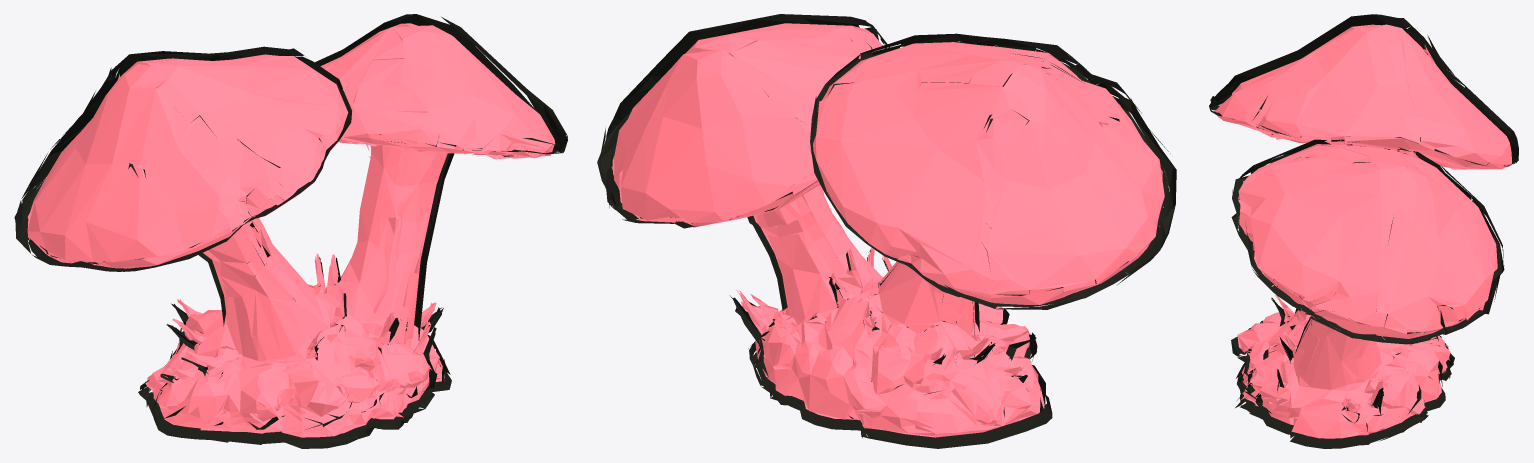
The model's file is df_v2_mushroom_blocker_g_a.glb.
3 views of the same model, side by side, from view 1: azimuth 30°, elevation 25°; view 2: azimuth 150°, elevation 25°; view 3: azimuth 270°, elevation 25° (orthographic). The views are drawn at different scales.
Visible parts, largest first — view 1: mushroom_blocker_g_mesh_01, mushroom_blocker_g_mesh_01_ink_outline; view 2: mushroom_blocker_g_mesh_01, mushroom_blocker_g_mesh_01_ink_outline; view 3: mushroom_blocker_g_mesh_01, mushroom_blocker_g_mesh_01_ink_outline.
Boxes of the visible parts, bbox=[...] form: mushroom_blocker_g_mesh_01: bbox=[27, 23, 555, 437]; mushroom_blocker_g_mesh_01_ink_outline: bbox=[14, 14, 567, 448]; mushroom_blocker_g_mesh_01: bbox=[611, 23, 1164, 437]; mushroom_blocker_g_mesh_01_ink_outline: bbox=[597, 14, 1176, 448]; mushroom_blocker_g_mesh_01: bbox=[1215, 24, 1511, 438]; mushroom_blocker_g_mesh_01_ink_outline: bbox=[1209, 14, 1518, 448].
Bounding box in the file's own units: 0.9469 × 0.6329 × 0.5607.
